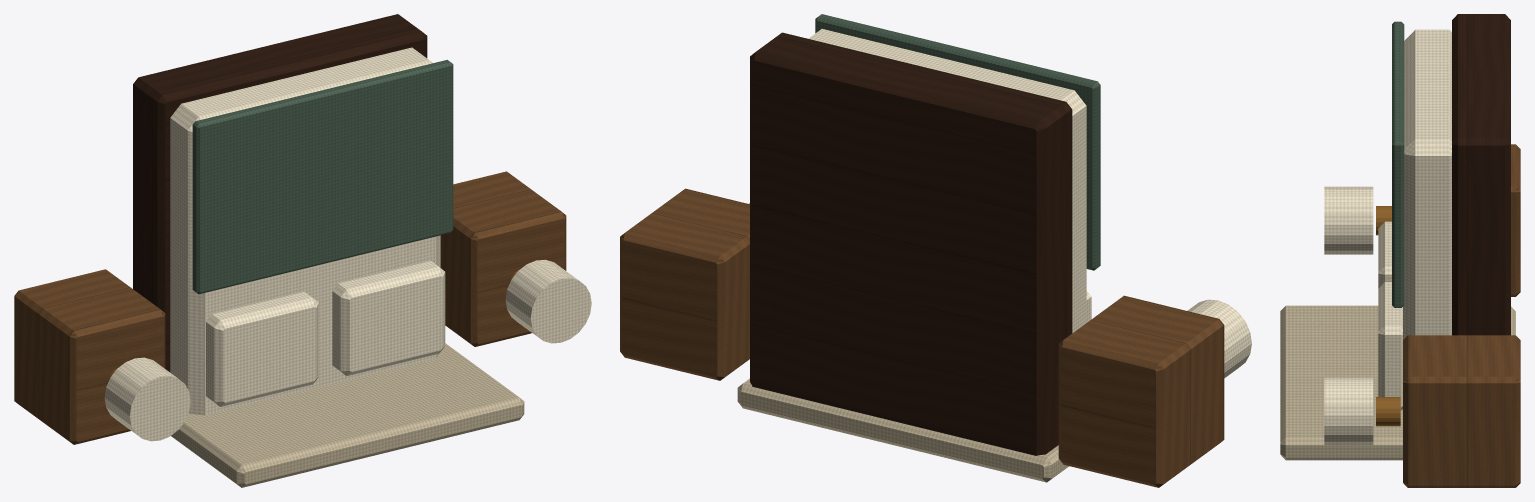
Rendered from bed_bedroom4.obj.
3 renders of one model, left to right at view 1: azimuth 30°, elevation 25°; view 2: azimuth 150°, elevation 25°; view 3: azimuth 270°, elevation 25°, orthographic. The views are drawn at different scales.
Visible parts, largest first — view 1: bed_bedroom4_linen, bed_bedroom4_sage, bed_bedroom4_oak, bed_bedroom4_fabric, bed_bedroom4_walnut; view 2: bed_bedroom4_walnut, bed_bedroom4_oak, bed_bedroom4_linen, bed_bedroom4_fabric, bed_bedroom4_sage; view 3: bed_bedroom4_linen, bed_bedroom4_oak, bed_bedroom4_walnut, bed_bedroom4_fabric, bed_bedroom4_sage, bed_bedroom4_brass.
Boxes of the visible parts, left/top/right/bottom form: bed_bedroom4_linen: left=104, top=47, right=591, bottom=441; bed_bedroom4_sage: left=192, top=59, right=453, bottom=294; bed_bedroom4_oak: left=14, top=171, right=566, bottom=444; bed_bedroom4_fabric: left=171, top=343, right=524, bottom=487; bed_bedroom4_walnut: left=133, top=14, right=427, bottom=372; bed_bedroom4_walnut: left=750, top=32, right=1072, bottom=455; bed_bedroom4_oak: left=620, top=188, right=1224, bottom=487; bed_bedroom4_linen: left=749, top=29, right=1251, bottom=378; bed_bedroom4_fabric: left=737, top=378, right=1068, bottom=482; bed_bedroom4_sage: left=815, top=14, right=1100, bottom=270; bed_bedroom4_linen: left=1324, top=29, right=1451, bottom=445; bed_bedroom4_oak: left=1403, top=144, right=1520, bottom=487; bed_bedroom4_walnut: left=1452, top=14, right=1510, bottom=335; bed_bedroom4_fabric: left=1280, top=305, right=1515, bottom=460; bed_bedroom4_sage: left=1392, top=21, right=1404, bottom=307; bed_bedroom4_brass: left=1376, top=206, right=1400, bottom=426.
Size of the model in its own units: 114 by 72 by 49.
Materials: 7 (7 with a texture image).
